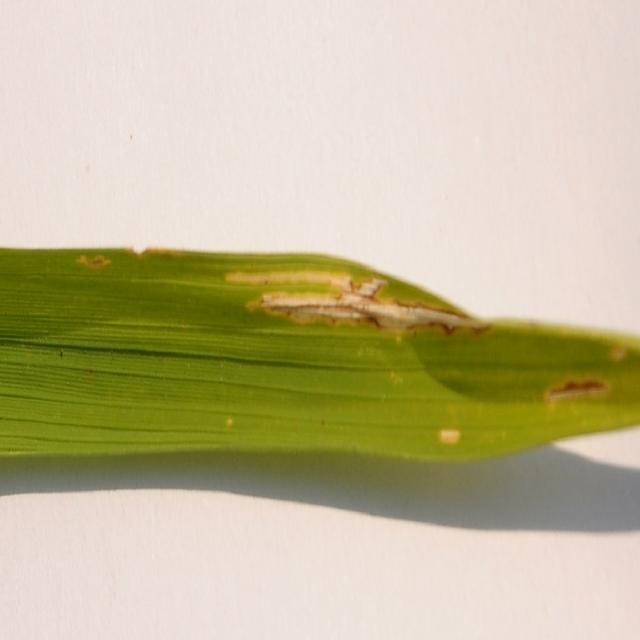leaf blight: (221, 255, 488, 332), (537, 357, 616, 422), (69, 242, 110, 288), (431, 418, 465, 452), (610, 326, 636, 365), (220, 405, 238, 438)
